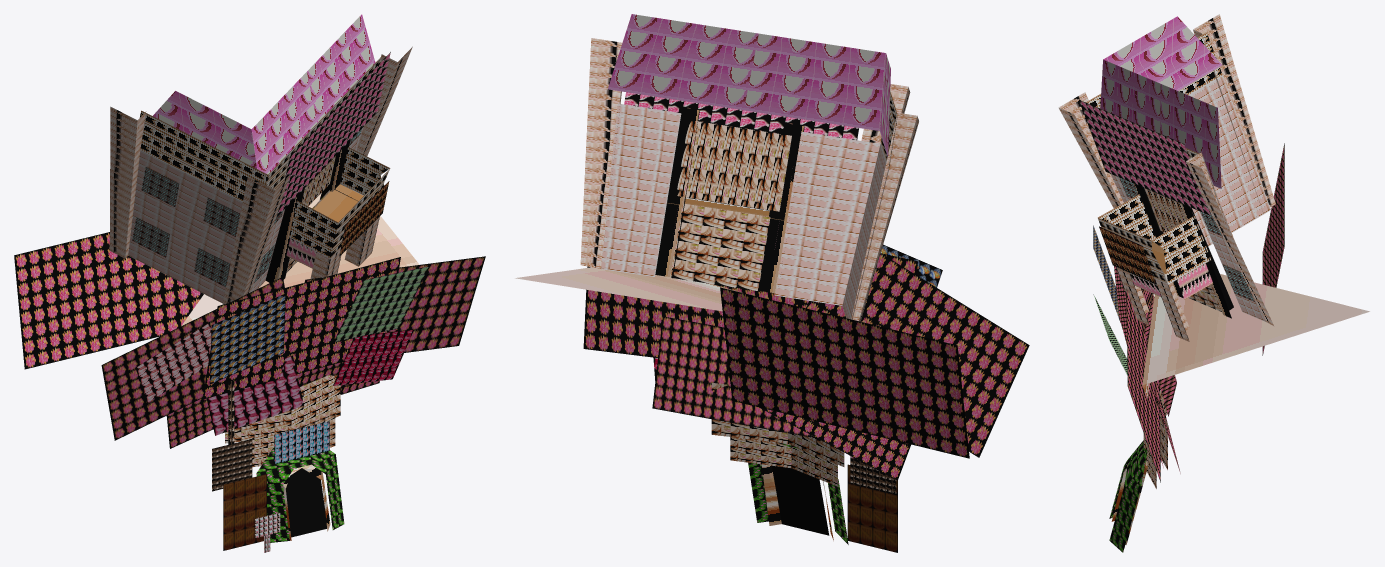
Rendered from tp_princess00.gltf.
The picture shows the model from 3 angles, left to right: view 1: azimuth 30°, elevation 25°; view 2: azimuth 150°, elevation 25°; view 3: azimuth 270°, elevation 25°; orthographic projection. The views are drawn at different scales.
Visible parts, largest first — view 1: tp_princess00; view 2: tp_princess00; view 3: tp_princess00.
Boxes of the visible parts, <box> form: tp_princess00: <box>14,14,485,552</box>; tp_princess00: <box>515,14,1029,552</box>; tp_princess00: <box>1058,14,1369,552</box>.
Size of the model in its own units: 3.85 by 4.29 by 2.54.
Materials: 21 (21 with a texture image).
